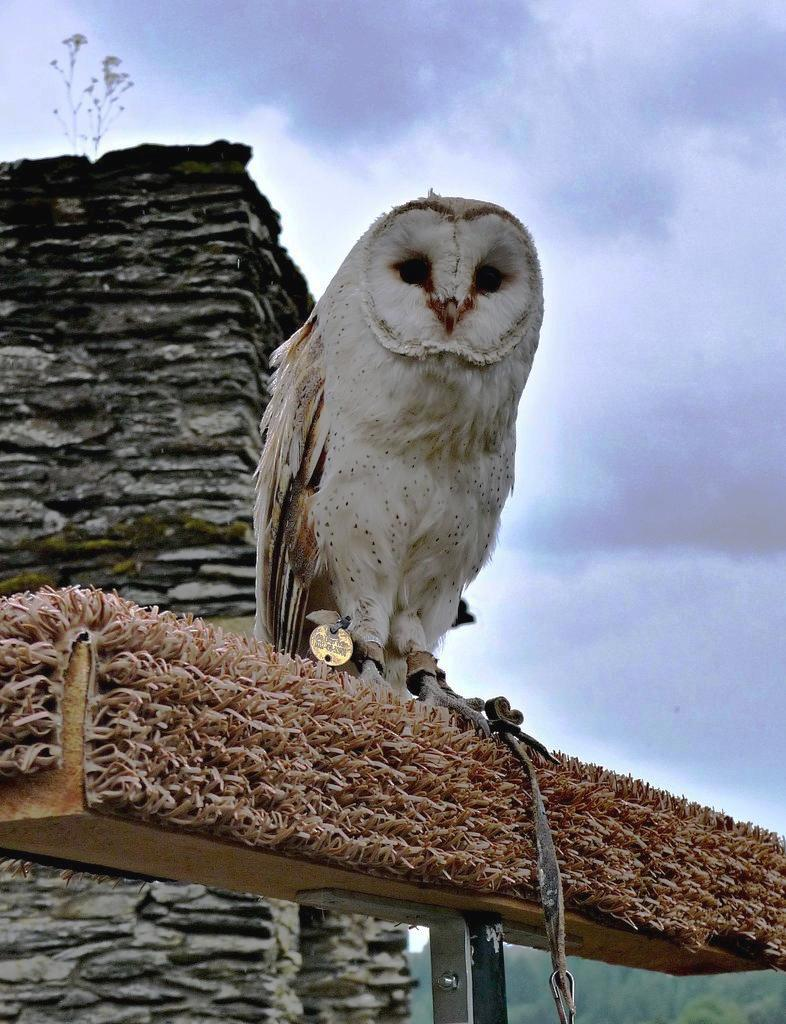Owl: (254, 187, 548, 738)
